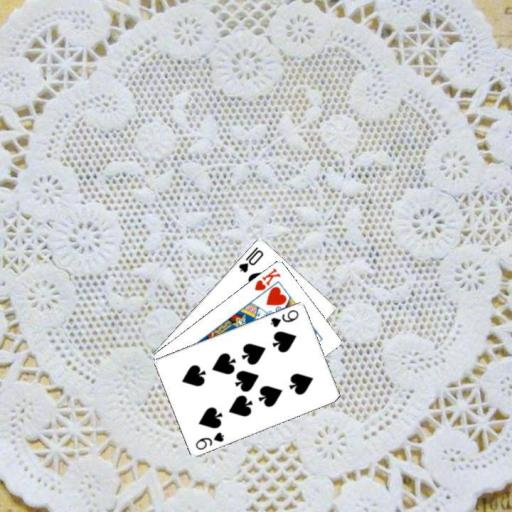10S: (236, 243, 266, 274)
9S: (267, 307, 300, 329), (193, 429, 225, 451)
KH: (251, 265, 282, 292)
